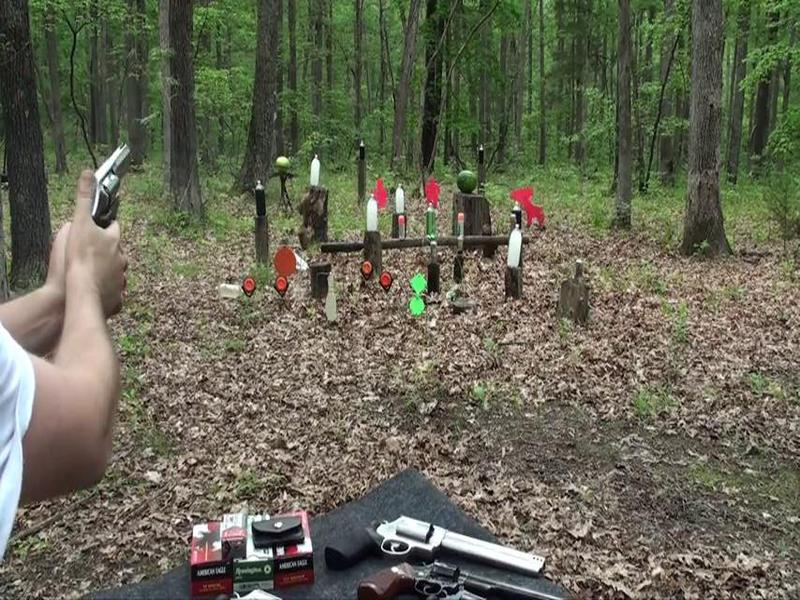Revolver: (77, 126, 157, 250)
